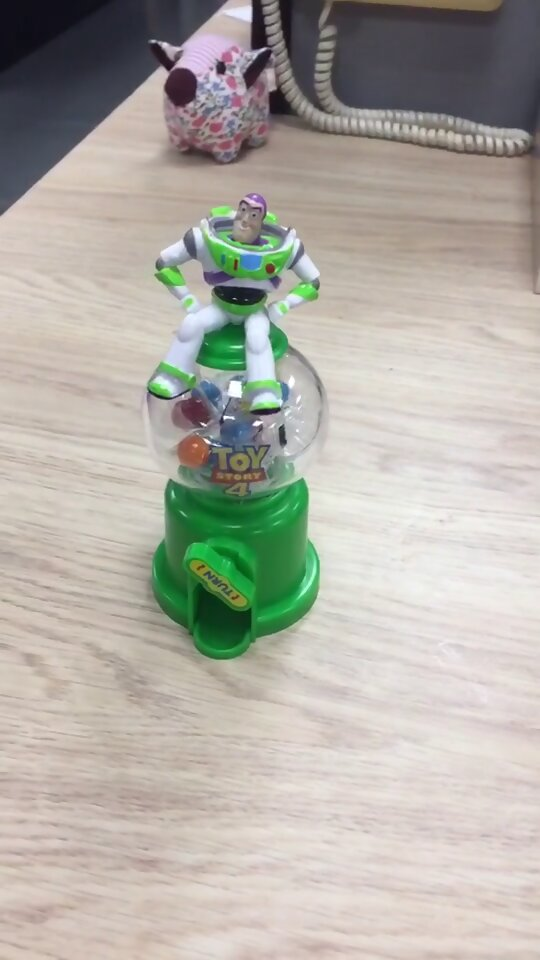buzz: (137, 190, 329, 663)
